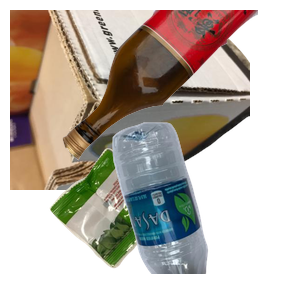cardboard: (10, 10, 250, 190)
glass: (60, 10, 300, 163)
plastic: (110, 120, 300, 300)
trash: (47, 146, 220, 300)
